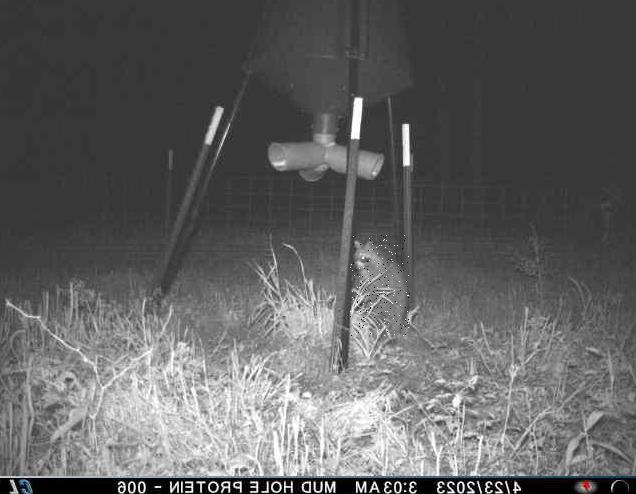Raccoon: (350, 236, 410, 337)
